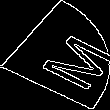M_NW: (8, 22, 102, 88)
